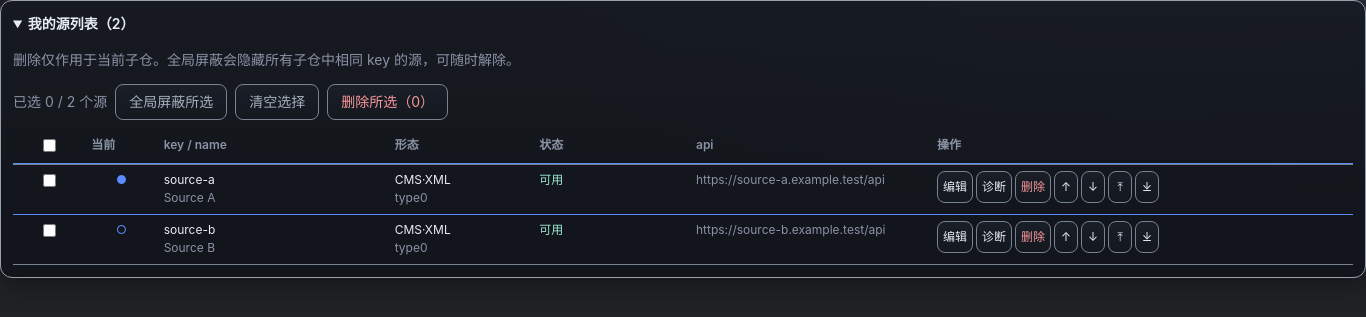
Test case: SourceManagementSection › reports and clears only sources confirmed as removed by the store
This screenshot has width=1366, height=317.
Click the checkbox named "全选源": [50, 146] box [43, 139, 56, 152]
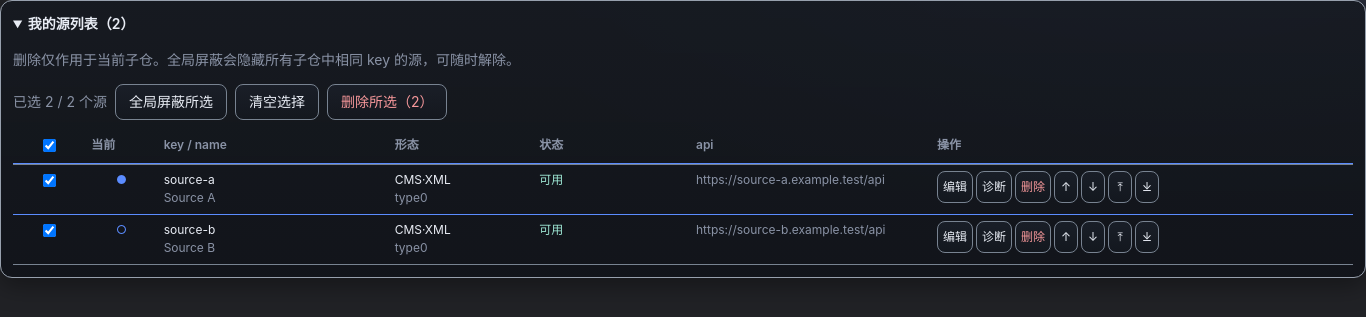
Click the button "删除所选（2）": [387, 102] box [327, 84, 447, 120]
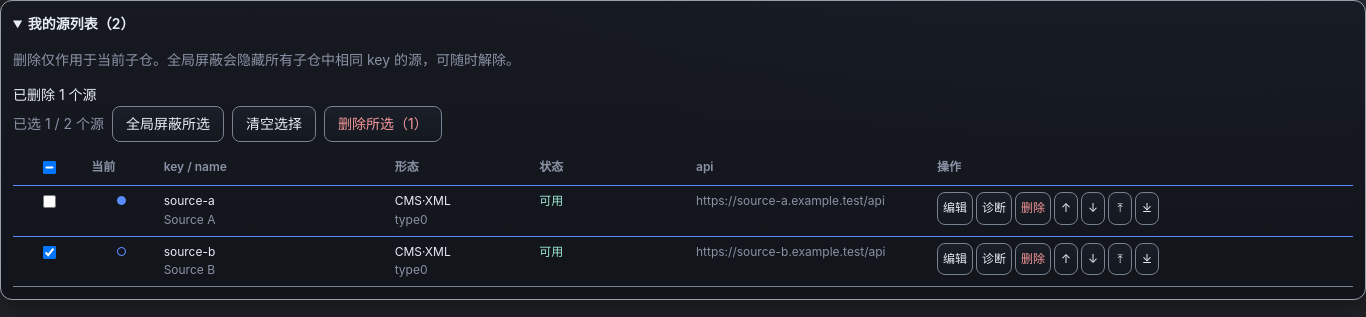
Expected: the checkbox named "选择源 Source B" is checked, [43, 246, 56, 258]
Expected: the text "已删除 1 个源" is shown, [13, 86, 97, 103]
Expected: the checkbox named "选择源 Source A" is not checked, [43, 195, 56, 208]
